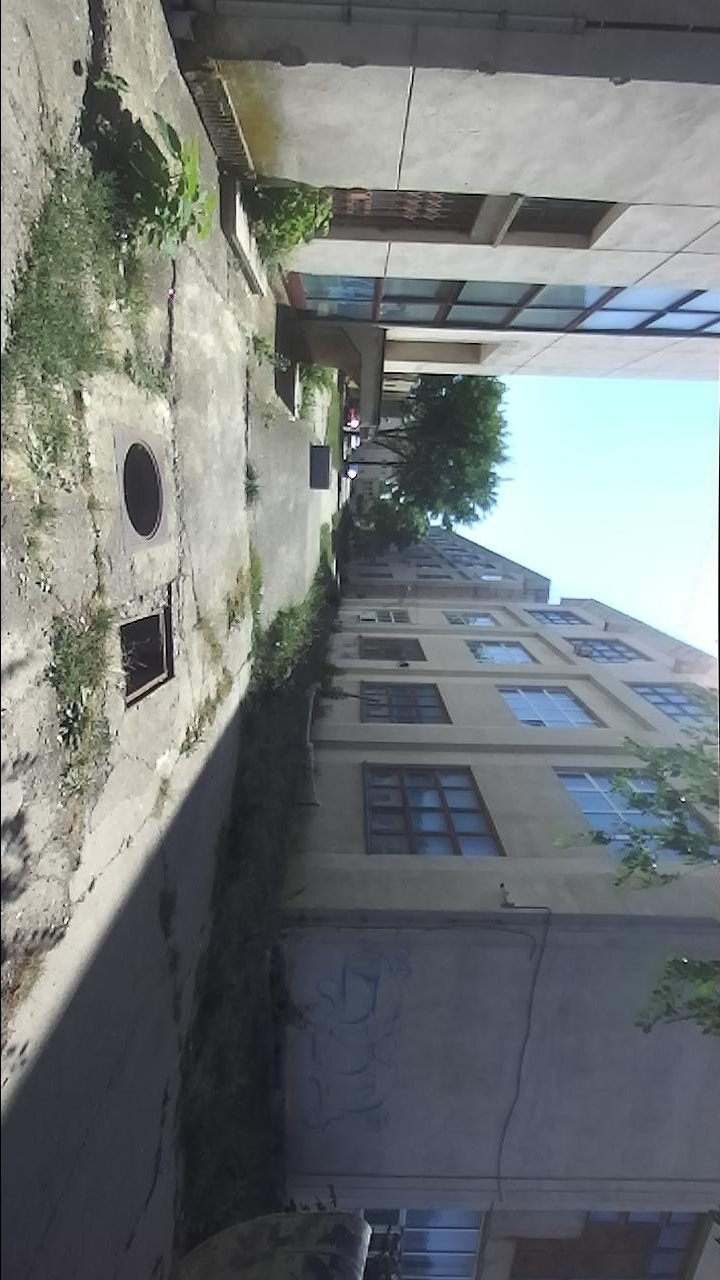drain: (115, 605, 178, 717), (118, 432, 168, 549)
